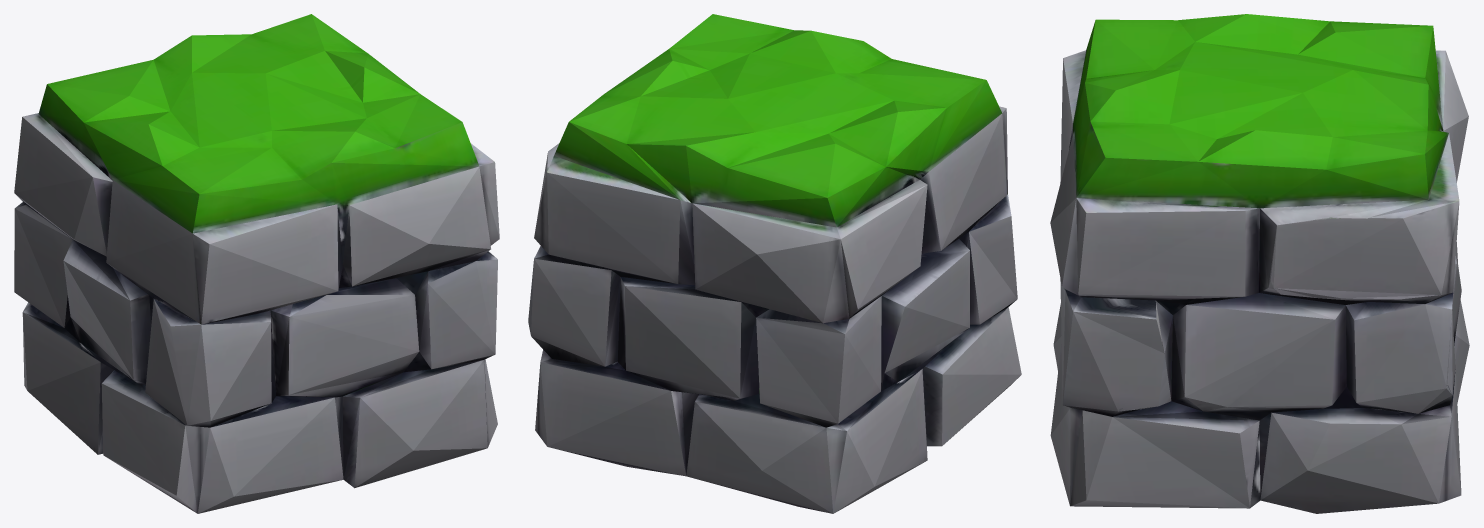
Rendered from wall_moss.glb.
3 views of the same model, side by side, from view 1: azimuth 30°, elevation 25°; view 2: azimuth 150°, elevation 25°; view 3: azimuth 270°, elevation 25° (orthographic). The views are drawn at different scales.
Parts seen in each view (by area): view 1: tmpf9k75iuz.ply; view 2: tmpf9k75iuz.ply; view 3: tmpf9k75iuz.ply.
Boxes of the visible parts, left/top/right/bottom form: tmpf9k75iuz.ply: left=14, top=14, right=499, bottom=513; tmpf9k75iuz.ply: left=528, top=14, right=1021, bottom=513; tmpf9k75iuz.ply: left=1050, top=14, right=1469, bottom=513.
Size of the model in its own units: 1.97 by 1.95 by 1.99.
Materials: 1 (1 with a texture image).
